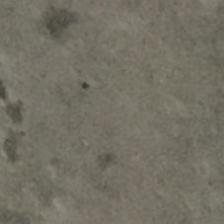Non_Crack: (13, 7, 220, 214)
